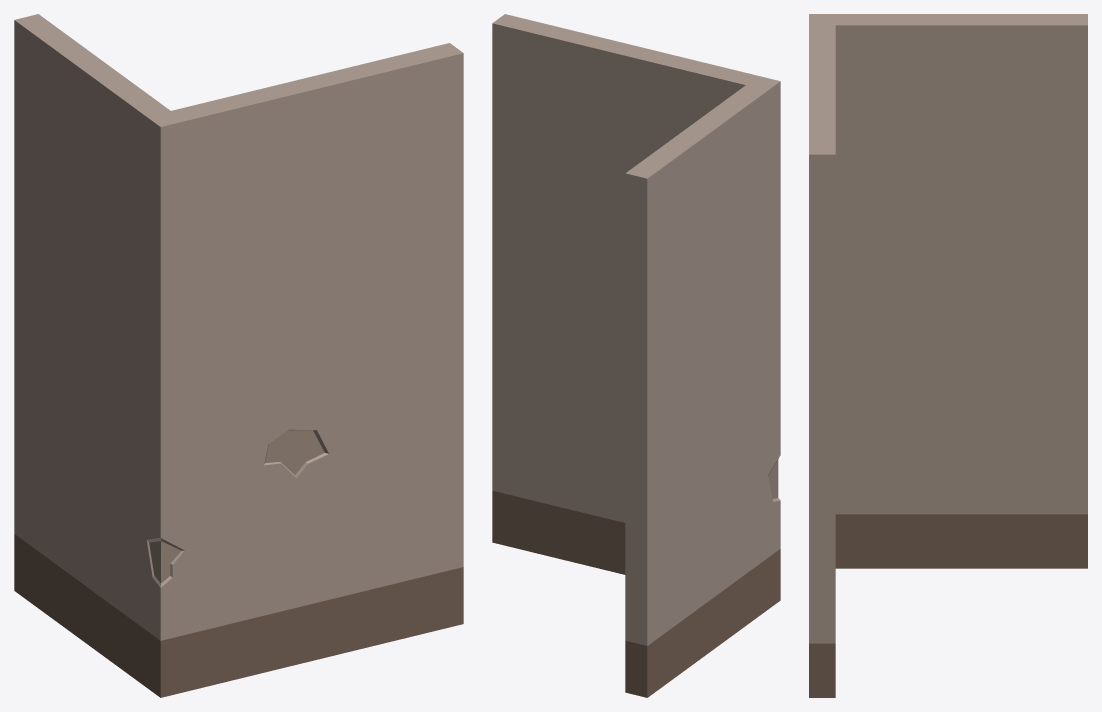
File: Wall2_12.fbx
3 views of the same model, side by side, from view 1: azimuth 30°, elevation 25°; view 2: azimuth 150°, elevation 25°; view 3: azimuth 270°, elevation 25° (orthographic). The views are drawn at different scales.
Parts seen in each view (by area): view 1: Wall2_12; view 2: Wall2_12; view 3: Wall2_12.
Boxes of the visible parts, left/top/right/bottom form: Wall2_12: left=14, top=14, right=463, bottom=697; Wall2_12: left=492, top=14, right=780, bottom=697; Wall2_12: left=809, top=14, right=1087, bottom=697.
Bounding box in the file's own units: 500 × 900 × 418.
